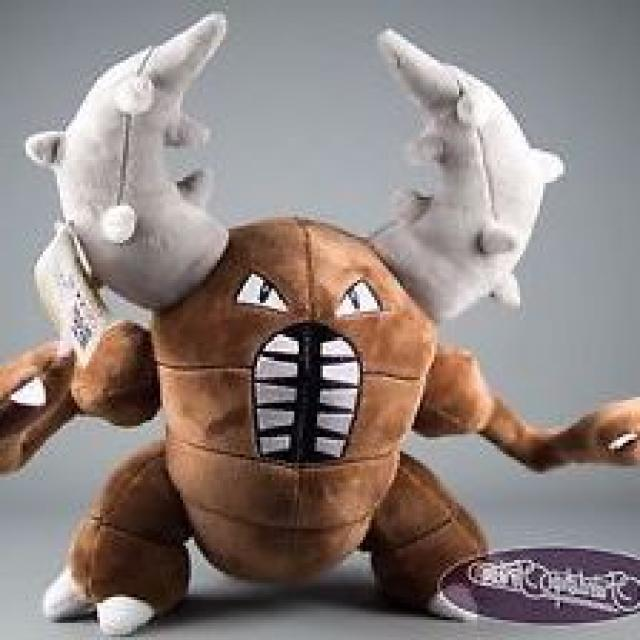Pinsir: (41, 25, 556, 627)
